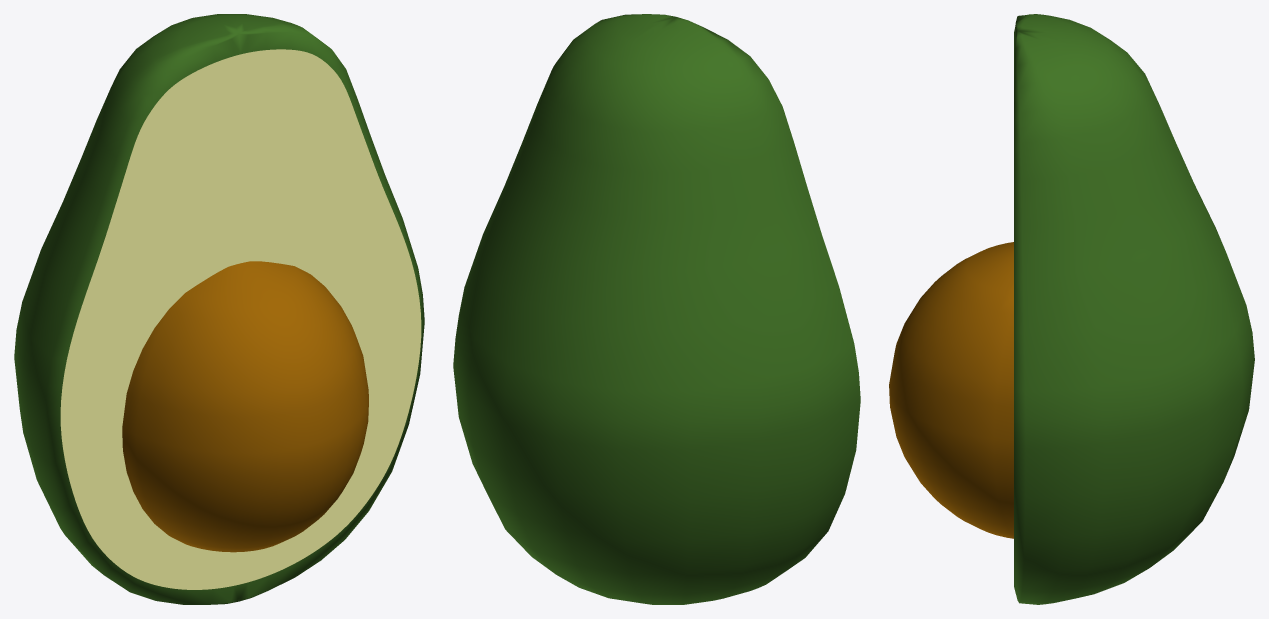
File: niuyouguo.fbx
3 renders of one model, left to right at view 1: azimuth 30°, elevation 25°; view 2: azimuth 150°, elevation 25°; view 3: azimuth 270°, elevation 25°, orthographic. The views are drawn at different scales.
Visible parts, largest first — view 1: polySurface2, pSphere2, polySurface1; view 2: polySurface1; view 3: polySurface1, pSphere2.
Part boxes in pixels (x1,y1,x2,y2): polySurface2: (60,49,421,589); pSphere2: (122,261,368,552); polySurface1: (14,14,424,604); polySurface1: (453,14,860,604); polySurface1: (1014,14,1254,604); pSphere2: (889,242,1013,538).
Bounding box in the file's own units: 1.4 × 1.2 × 2.
